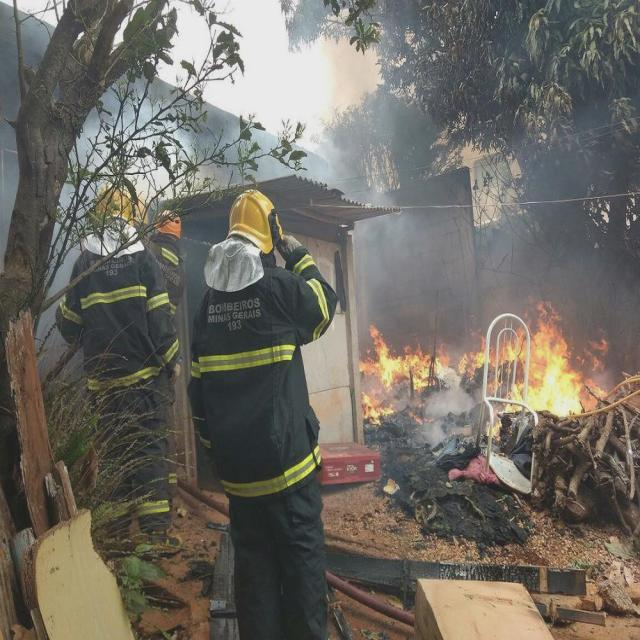fire: (363, 318, 605, 428)
